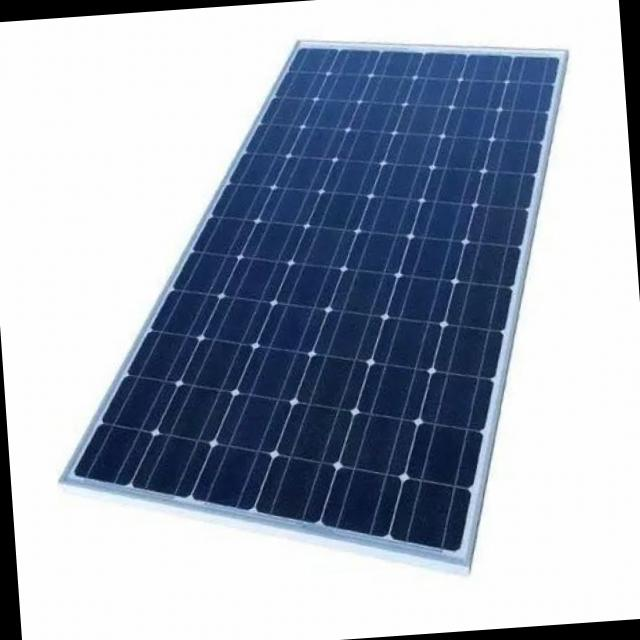no faulty: (76, 50, 559, 545)
